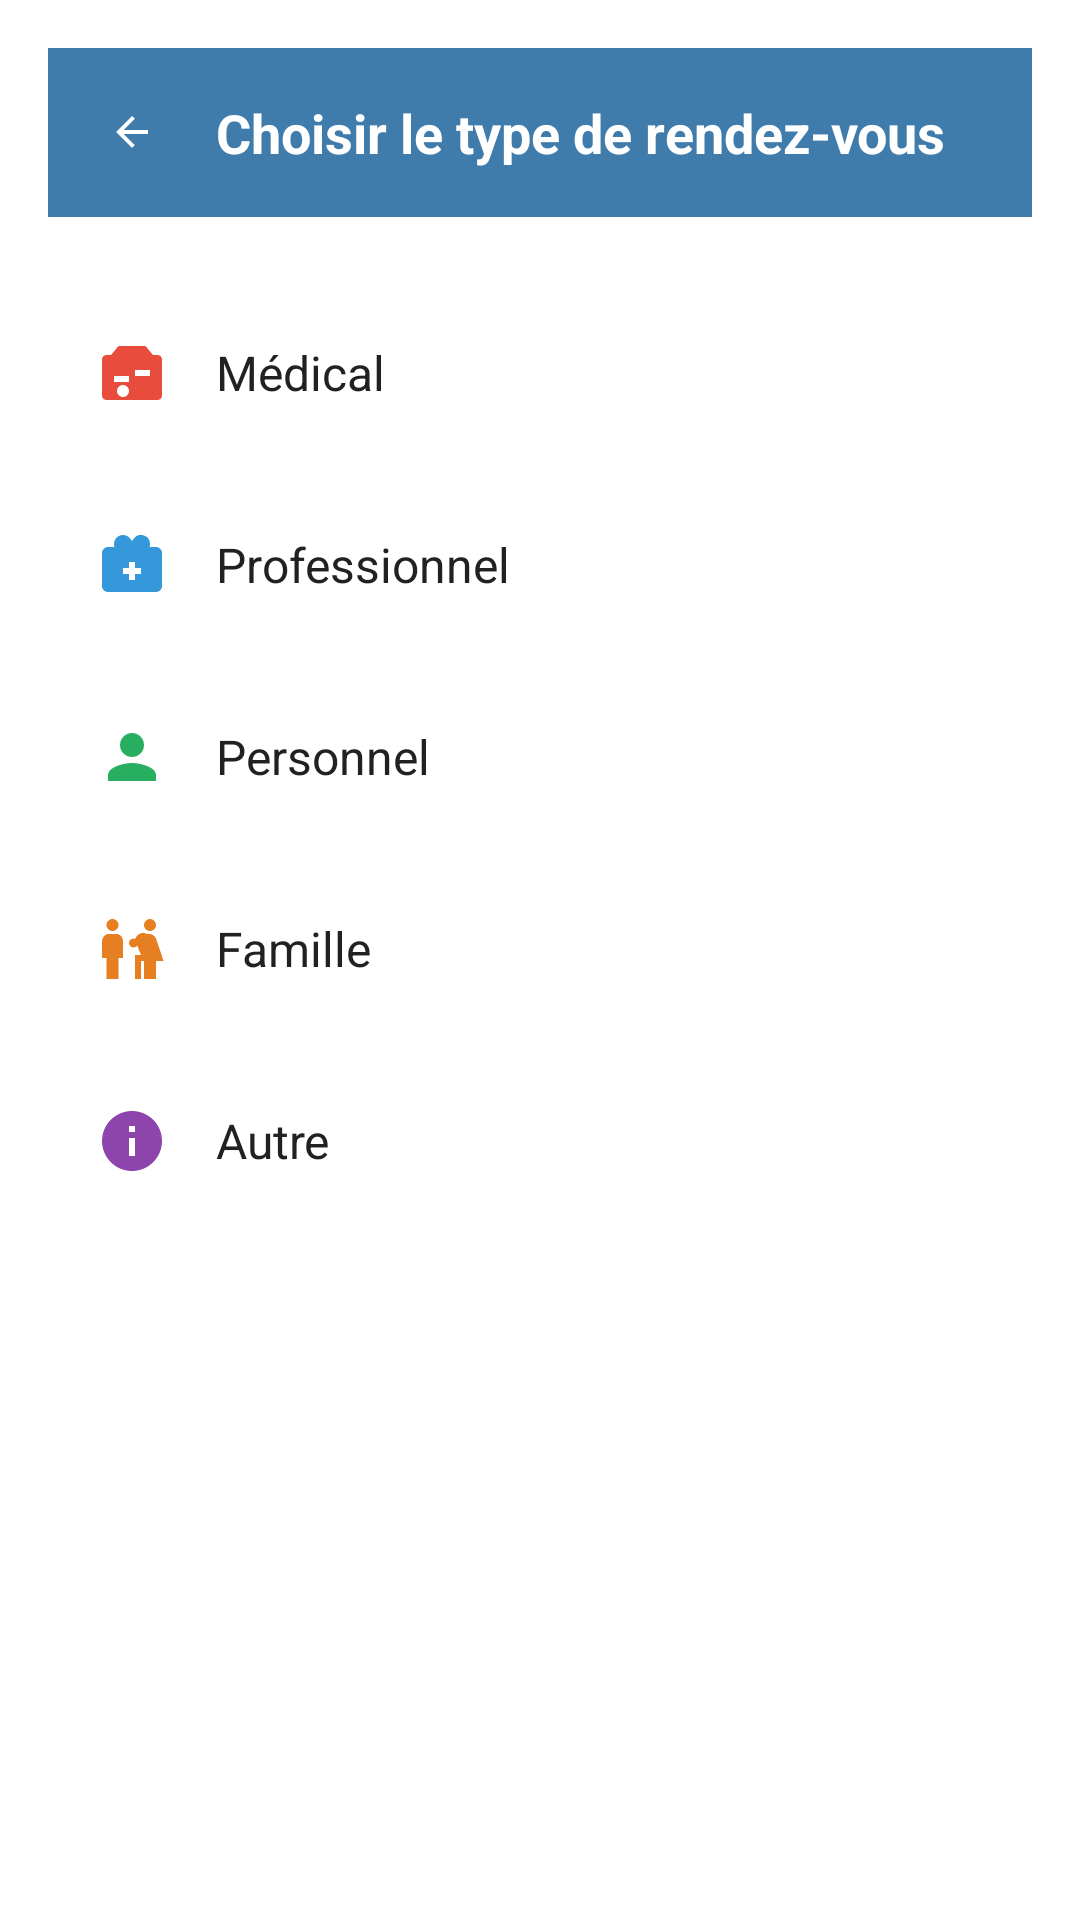

Icon click points for this 1080w x 1920h phone screenshot, format [x,y]:
arrow back: [132,132]
family: [133,949]
